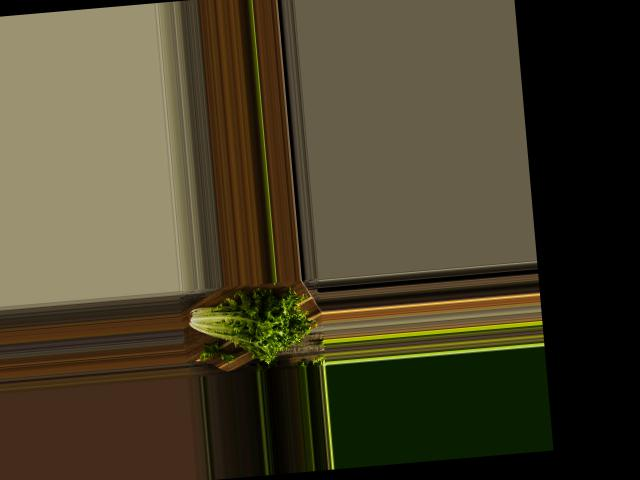lettuce: (180, 283, 313, 368)
